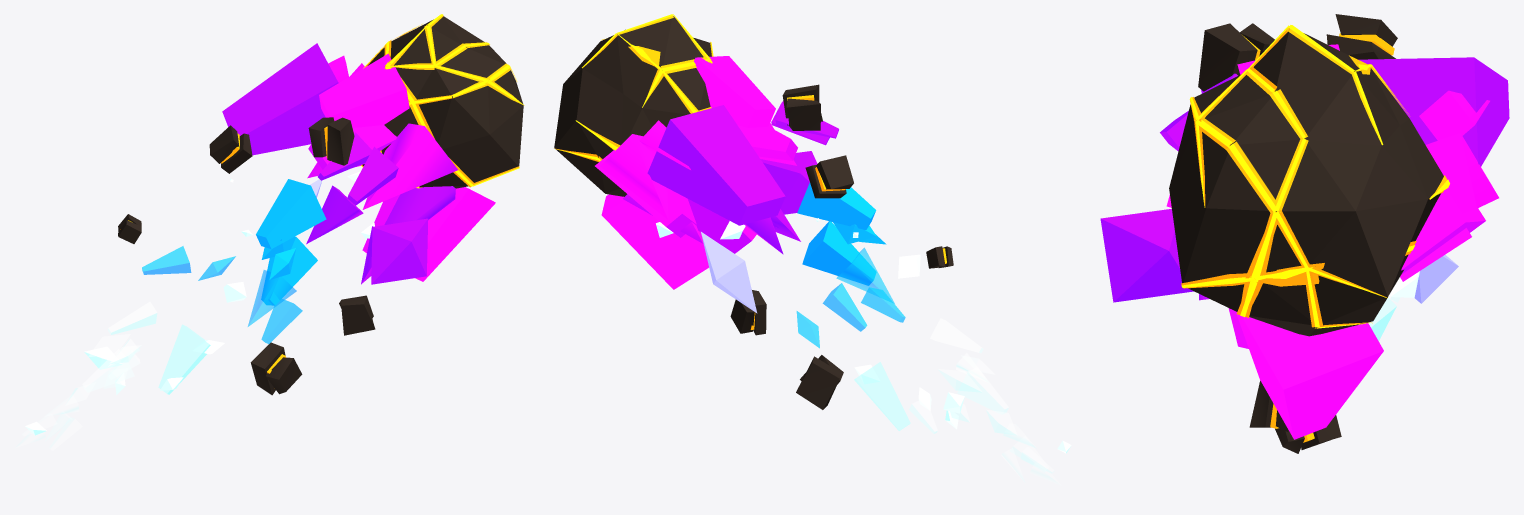
The model's file is fx_meteor.glb.
3 renders of one model, left to right at view 1: azimuth 30°, elevation 25°; view 2: azimuth 150°, elevation 25°; view 3: azimuth 270°, elevation 25°, orthographic. The views are drawn at different scales.
Visible parts, largest first — view 1: meteor_FX_Meteor_Glow3, meteor_Rock_Mesh1, meteor_FX_Meteor_Glow2, meteor_FX_Meteor_Mesh15, meteor_FX_Meteor_Glow1, meteor_FX_Meteor_Glow5, meteor_FX_Meteor_Glow7, meteor_Rock_Glow2, meteor_FX_Meteor_Glow14, meteor_Rock_Glow3, meteor_FX_Meteor_Glow8, meteor_FX_Meteor_Glow11 (+4 smaller); view 2: meteor_Rock_Mesh1, meteor_FX_Meteor_Glow3, meteor_FX_Meteor_Glow2, meteor_FX_Meteor_Mesh15, meteor_FX_Meteor_Glow5, meteor_FX_Meteor_Glow1, meteor_FX_Meteor_Glow7, meteor_FX_Meteor_Glow14, meteor_FX_Meteor_Glow11, meteor_FX_Meteor_Glow4, meteor_FX_Meteor_Glow8, meteor_Rock_Glow2 (+5 smaller); view 3: meteor_Rock_Mesh1, meteor_FX_Meteor_Glow2, meteor_FX_Meteor_Glow3, meteor_FX_Meteor_Mesh15, meteor_Rock_Glow2, meteor_Rock_Glow3, meteor_FX_Meteor_Glow1, meteor_FX_Meteor_Glow4, meteor_FX_Meteor_Glow16, meteor_FX_Meteor_Glow8, meteor_FX_Meteor_Glow14.
Part boxes in pixels (x1,y1,x2,y2): meteor_FX_Meteor_Glow3: [222, 43, 455, 284]; meteor_Rock_Mesh1: [362, 16, 523, 188]; meteor_FX_Meteor_Glow2: [319, 53, 495, 281]; meteor_FX_Meteor_Mesh15: [118, 117, 375, 395]; meteor_FX_Meteor_Glow1: [307, 123, 462, 253]; meteor_FX_Meteor_Glow5: [256, 179, 326, 305]; meteor_FX_Meteor_Glow7: [142, 246, 302, 343]; meteor_Rock_Glow2: [361, 15, 523, 187]; meteor_FX_Meteor_Glow14: [25, 171, 374, 435]; meteor_Rock_Glow3: [361, 14, 524, 188]; meteor_FX_Meteor_Glow8: [158, 324, 210, 394]; meteor_FX_Meteor_Glow11: [82, 339, 141, 392]; meteor_Rock_Mesh1: [554, 16, 711, 196]; meteor_FX_Meteor_Glow3: [647, 101, 838, 254]; meteor_FX_Meteor_Glow2: [600, 56, 775, 289]; meteor_FX_Meteor_Mesh15: [730, 84, 953, 409]; meteor_FX_Meteor_Glow5: [797, 182, 886, 285]; meteor_FX_Meteor_Glow1: [595, 123, 797, 253]; meteor_FX_Meteor_Glow7: [796, 283, 905, 348]; meteor_FX_Meteor_Glow14: [656, 218, 1071, 453]; meteor_FX_Meteor_Glow11: [909, 353, 1008, 433]; meteor_FX_Meteor_Glow4: [701, 232, 757, 313]; meteor_FX_Meteor_Glow8: [854, 362, 910, 430]; meteor_Rock_Glow2: [555, 15, 712, 161]; meteor_Rock_Mesh1: [1169, 31, 1443, 336]; meteor_FX_Meteor_Glow2: [1235, 44, 1498, 439]; meteor_FX_Meteor_Glow3: [1100, 57, 1509, 302]; meteor_FX_Meteor_Mesh15: [1198, 14, 1397, 453]; meteor_Rock_Glow2: [1181, 27, 1447, 328]; meteor_Rock_Glow3: [1181, 25, 1449, 328]; meteor_FX_Meteor_Glow1: [1166, 189, 1485, 348]; meteor_FX_Meteor_Glow4: [1414, 254, 1458, 303]; meteor_FX_Meteor_Glow16: [1242, 33, 1394, 442]; meteor_FX_Meteor_Glow8: [1368, 297, 1396, 341]; meteor_FX_Meteor_Glow14: [1390, 271, 1419, 297].
Size of the model in its own units: 9.43 by 7.76 by 4.29.
